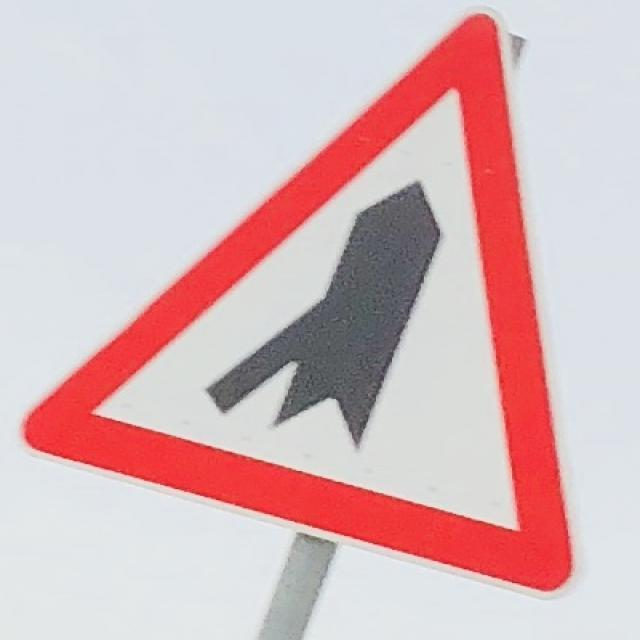cross road: (16, 14, 594, 613)
